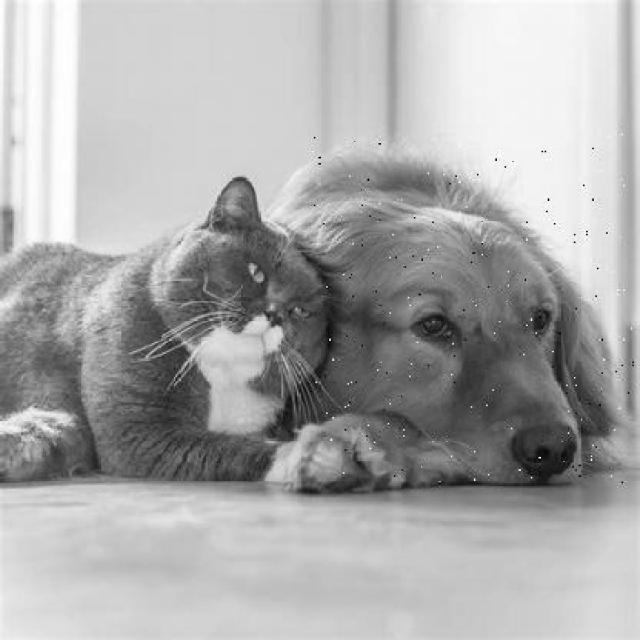Dog: (308, 130, 635, 484)
